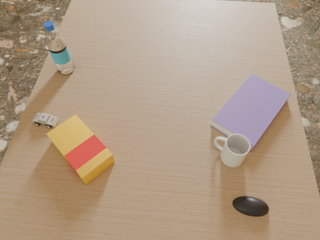book: (211, 74, 291, 151)
bottle: (44, 21, 74, 75)
box: (47, 115, 115, 184)
cup: (214, 133, 251, 167)
mouse: (233, 196, 269, 216)
toy_car: (33, 113, 59, 128)
